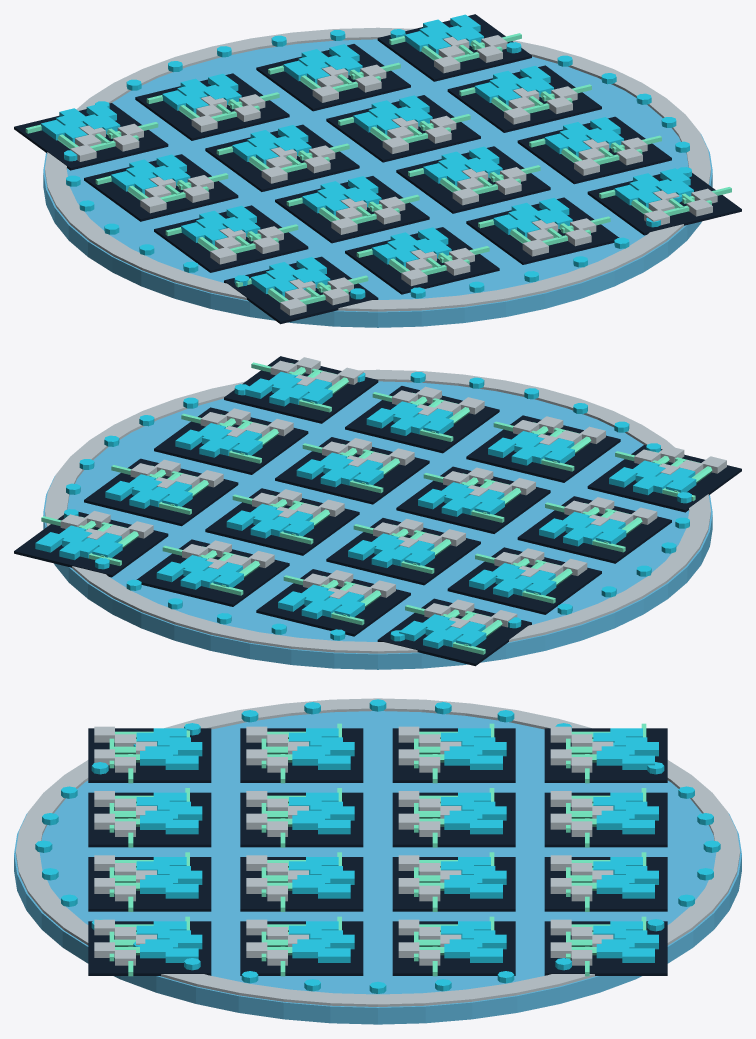
The model's file is 31_L74_PlanarizedSiliconWafer.fbx.
3 views of the same model, one above another, from view 1: azimuth 30°, elevation 25°; view 2: azimuth 150°, elevation 25°; view 3: azimuth 270°, elevation 25° (orthographic). The views are drawn at different scales.
Visible parts, largest first — view 1: PlanarizedSiliconWafer; view 2: PlanarizedSiliconWafer; view 3: PlanarizedSiliconWafer.
Part boxes in pixels (x1=…): PlanarizedSiliconWafer: x1=14, y1=14, x2=741, y2=327; PlanarizedSiliconWafer: x1=14, y1=356, x2=741, y2=669; PlanarizedSiliconWafer: x1=14, y1=698, x2=741, y2=1024.
Size of the model in its own units: 122 by 5.25 by 122.
